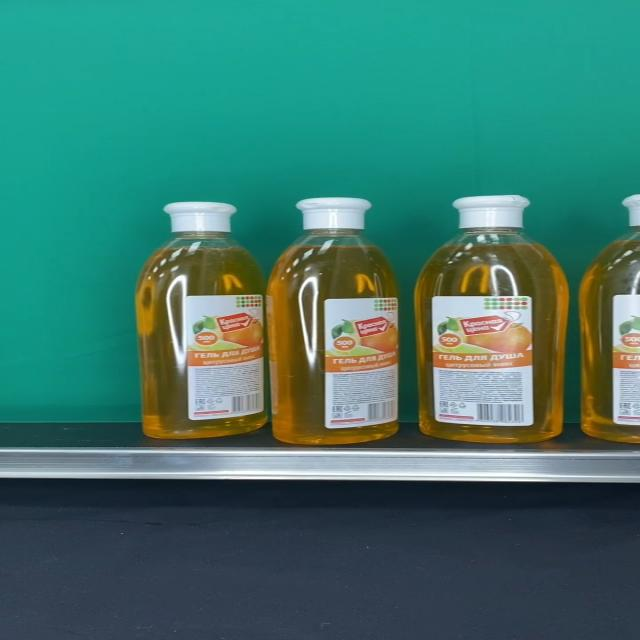Bottle: (413, 194, 570, 443), (267, 197, 400, 444), (136, 201, 270, 438)
Cap: (451, 194, 531, 228), (294, 198, 372, 230), (162, 202, 236, 232)
